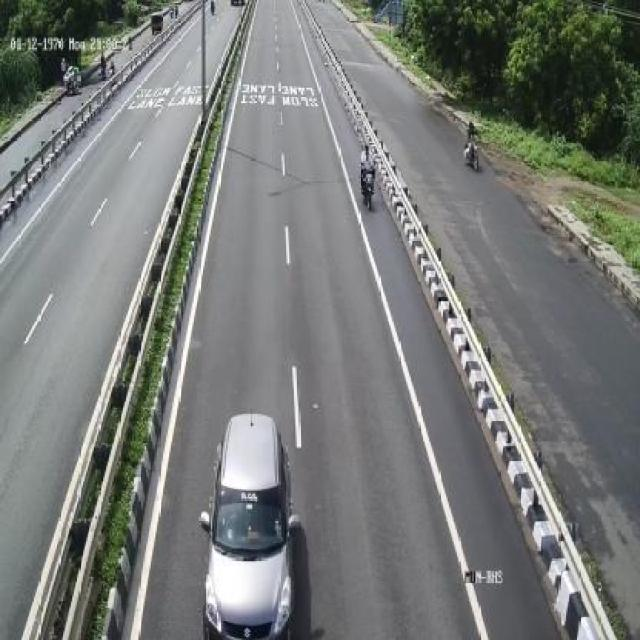car: (205, 403, 300, 640)
